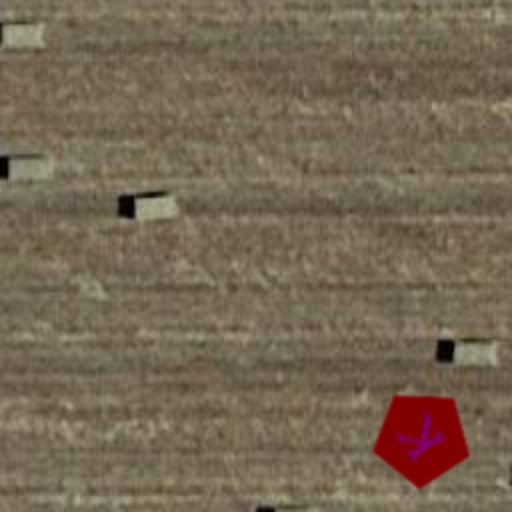pentagon: (350, 366, 494, 510)
